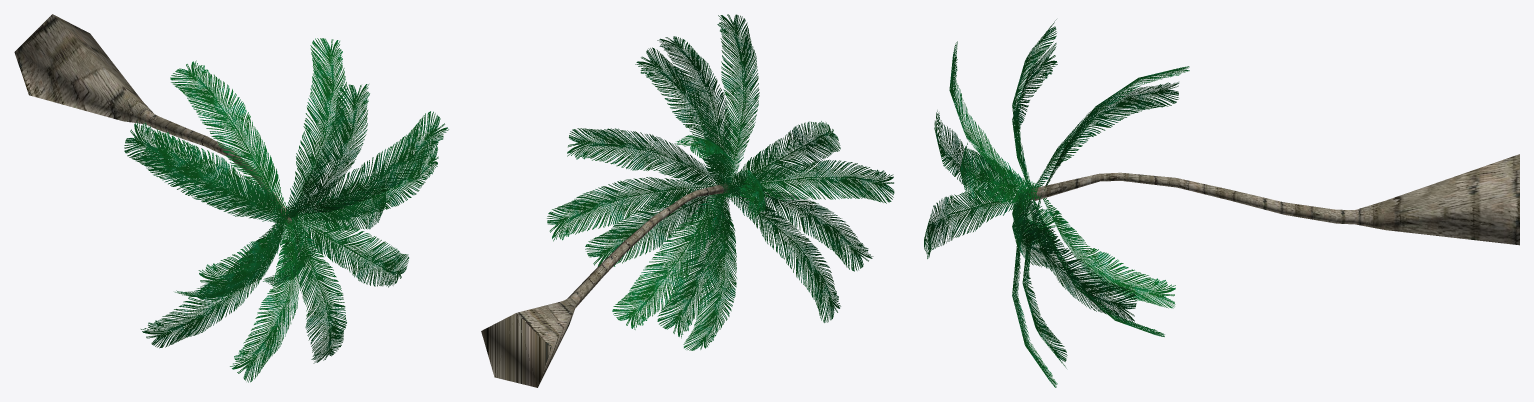
Rendered from palm1.obj.
The picture shows the model from 3 angles, left to right: view 1: azimuth 30°, elevation 25°; view 2: azimuth 150°, elevation 25°; view 3: azimuth 270°, elevation 25°; orthographic projection. The views are drawn at different scales.
Visible parts, largest first — view 1: l1_47, Group10; view 2: l1_47, Group10; view 3: l1_47, Group10.
Boxes of the visible parts, x1=… form: l1_47: x1=124, y1=38, x2=448, y2=382; Group10: x1=14, y1=14, x2=291, y2=224; l1_47: x1=547, y1=14, x2=894, y2=350; Group10: x1=481, y1=183, x2=729, y2=387; l1_47: x1=924, y1=19, x2=1189, y2=387; Group10: x1=1028, y1=154, x2=1519, y2=245.
Size of the model in its own units: 15.21 by 15.89 by 24.91.
Materials: 2 (2 with a texture image).
